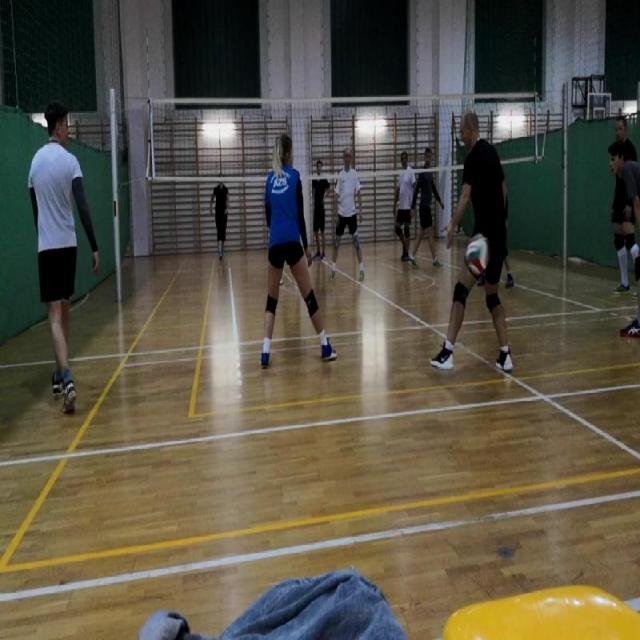volleyball: (464, 232, 489, 278)
